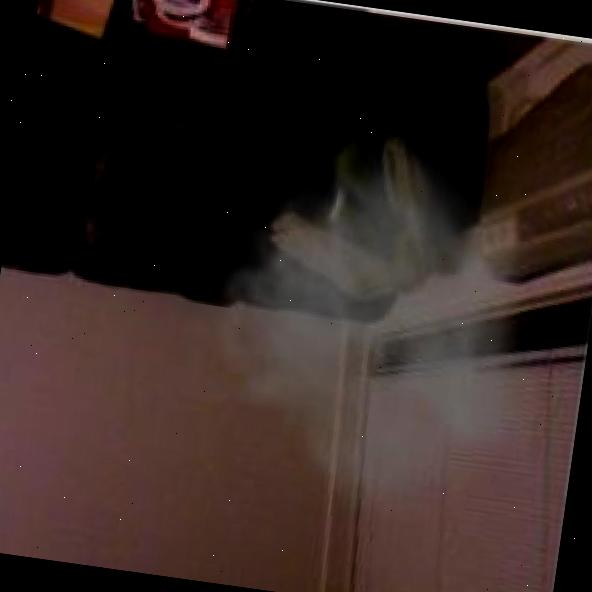smoke: (145, 85, 574, 555)
